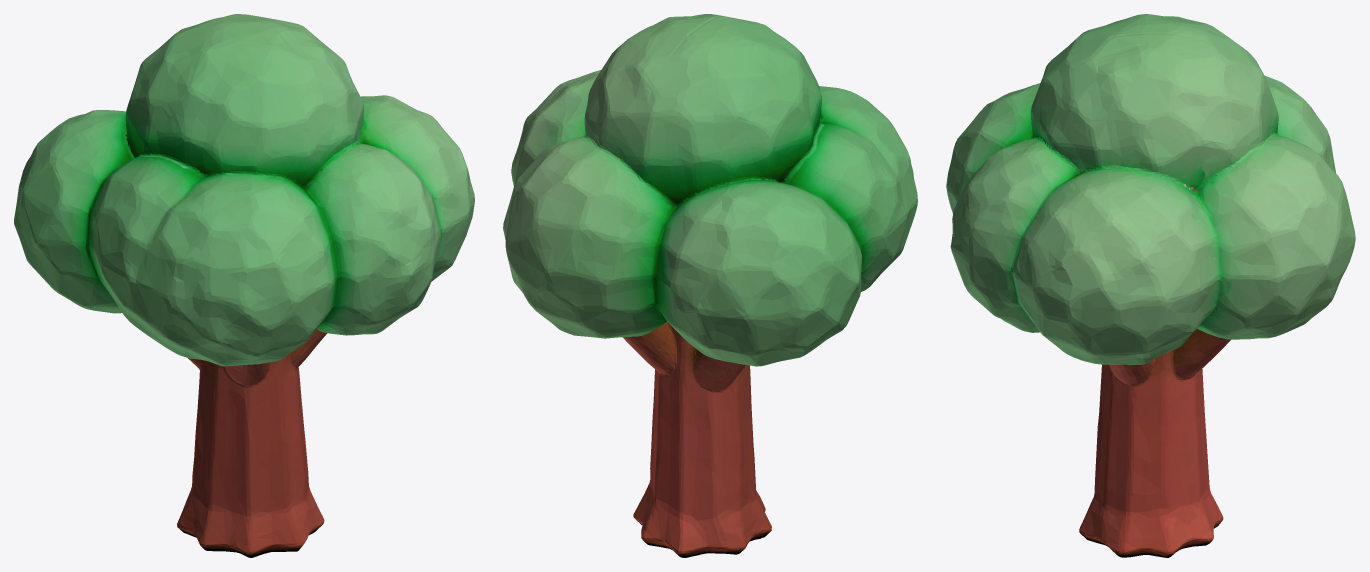
The model's file is arbol_01.glb.
3 views of the same model, side by side, from view 1: azimuth 30°, elevation 25°; view 2: azimuth 150°, elevation 25°; view 3: azimuth 270°, elevation 25° (orthographic).
Parts seen in each view (by area): view 1: arbol_01; view 2: arbol_01; view 3: arbol_01.
Part boxes in pixels (bbox=[...]): arbol_01: bbox=[14, 14, 474, 557]; arbol_01: bbox=[503, 14, 917, 557]; arbol_01: bbox=[946, 14, 1355, 557].
Size of the model in its own units: 1.54 by 1.96 by 1.45.
1 material, 1 textured.
